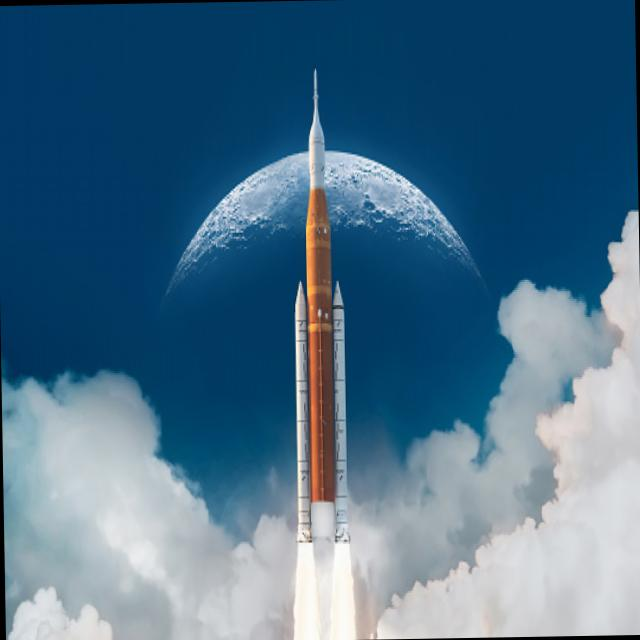rocket: (267, 73, 356, 640)
